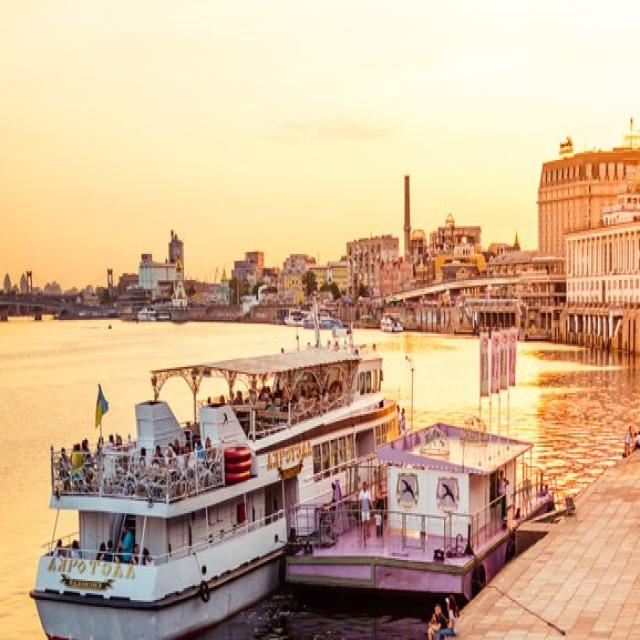passenger ship: (42, 311, 409, 640)
